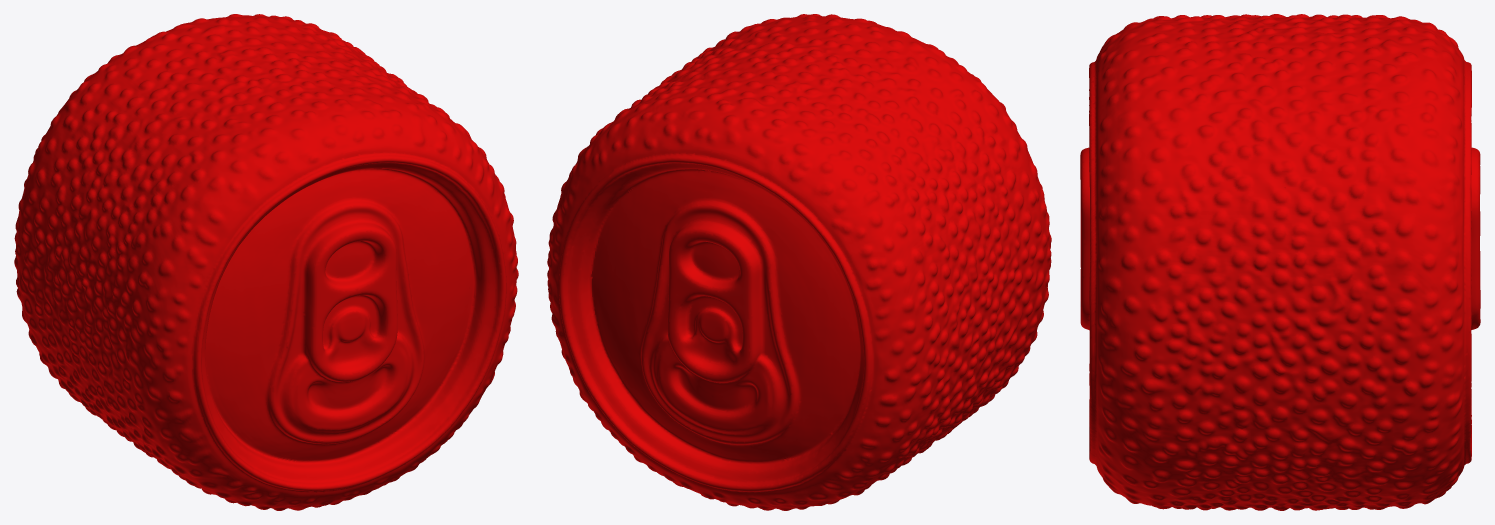
File: scratch_red_coca.glb
The picture shows the model from 3 angles, left to right: view 1: azimuth 30°, elevation 25°; view 2: azimuth 150°, elevation 25°; view 3: azimuth 270°, elevation 25°; orthographic projection. The views are drawn at different scales.
Visible parts, largest first — view 1: ea547de3-f1f9-4029-86b0-7fdbccea7756.glb; view 2: ea547de3-f1f9-4029-86b0-7fdbccea7756.glb; view 3: ea547de3-f1f9-4029-86b0-7fdbccea7756.glb.
Part boxes in pixels (left/top/right/bottom): ea547de3-f1f9-4029-86b0-7fdbccea7756.glb: left=14, top=14, right=518, bottom=510; ea547de3-f1f9-4029-86b0-7fdbccea7756.glb: left=547, top=14, right=1051, bottom=510; ea547de3-f1f9-4029-86b0-7fdbccea7756.glb: left=1080, top=14, right=1480, bottom=510.
Bounding box in the file's own units: 1.99 × 1.99 × 1.64.
